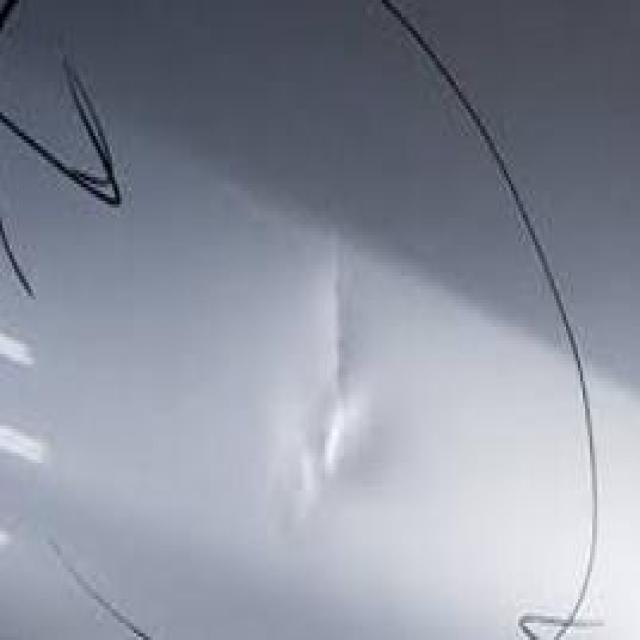dent: (278, 206, 386, 553)
